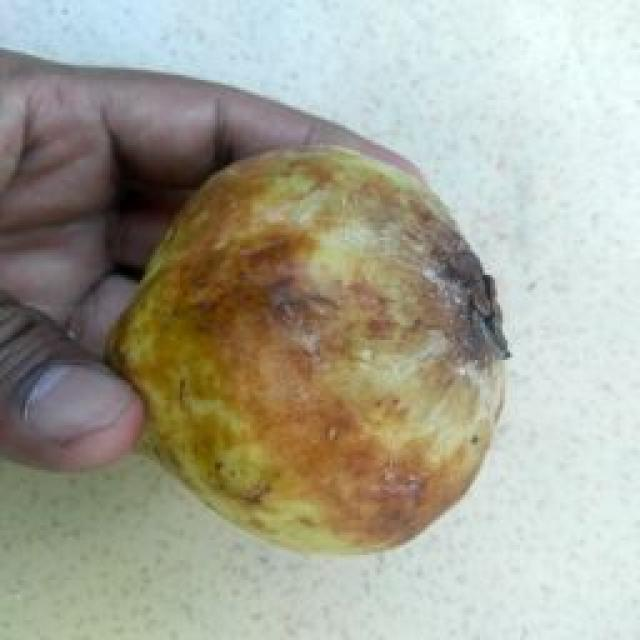Bad_Guava: (109, 148, 509, 551)
